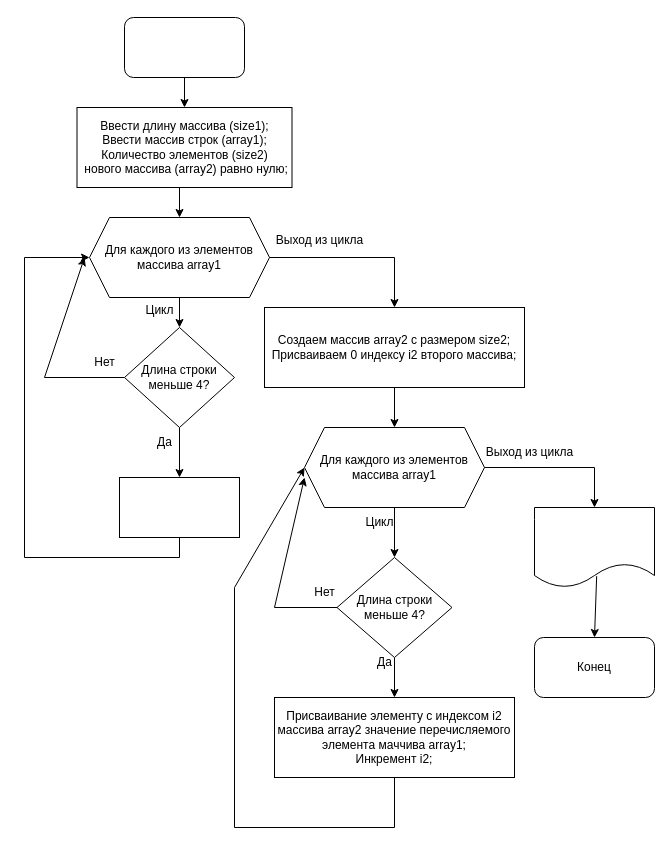
Image size: 672x846. Some labels were removed from this diagram. The centre of each missing label's shape, as x and y in pixels:
"Вывод на консоль обоих массивов" belongs at (x=594, y=547).
"Инкремент size2" belongs at (x=179, y=507).
"Начало" belongs at (x=184, y=47).
